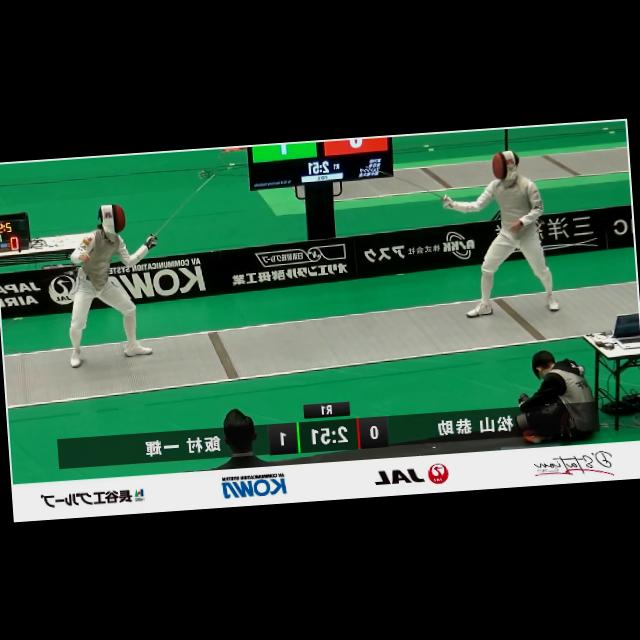blade: (140, 167, 226, 246), (358, 156, 453, 208)
